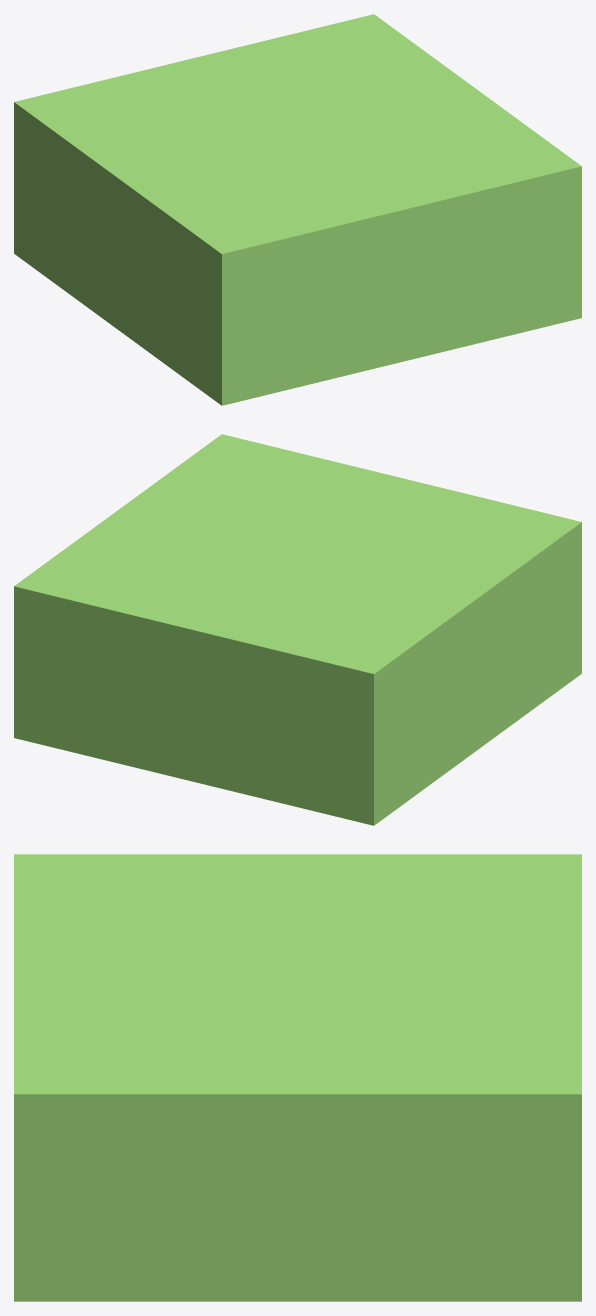
File: Ceiling04.fbx
3 views of the same model, one above another, from view 1: azimuth 30°, elevation 25°; view 2: azimuth 150°, elevation 25°; view 3: azimuth 270°, elevation 25° (orthographic). The views are drawn at different scales.
Visible parts, largest first — view 1: SM_Ceiling04; view 2: SM_Ceiling04; view 3: SM_Ceiling04.
Boxes of the visible parts, x1,y1,x2,y2 form: SM_Ceiling04: (14,14,581,405); SM_Ceiling04: (14,434,581,825); SM_Ceiling04: (14,854,581,1301).
Bounding box in the file's own units: 200 × 92.1 × 200.
